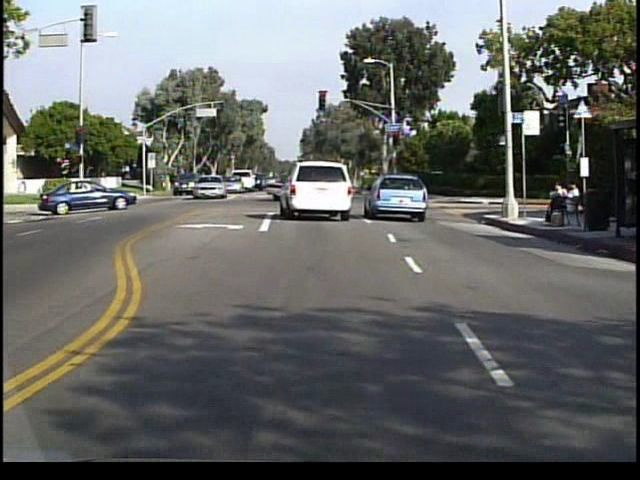person: (543, 178, 569, 226), (564, 179, 581, 226)
